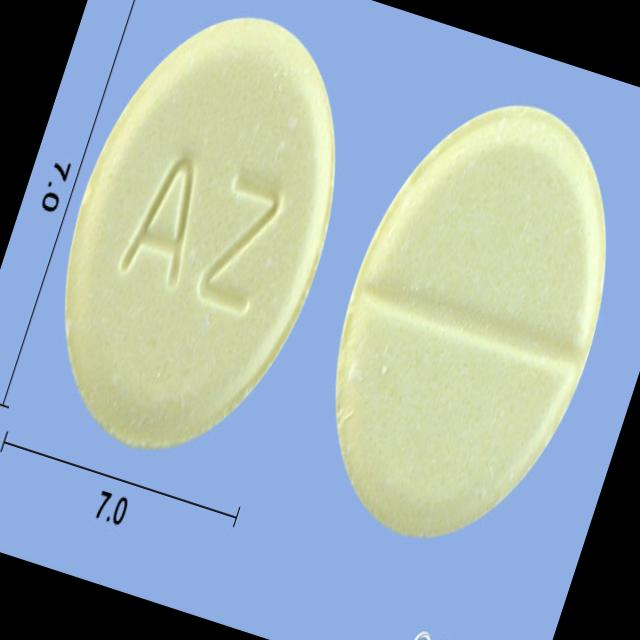Azafrine Tab: (9, 0, 392, 493)
